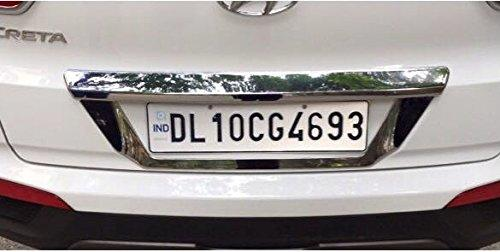DL10CG4693: (144, 98, 367, 153)
